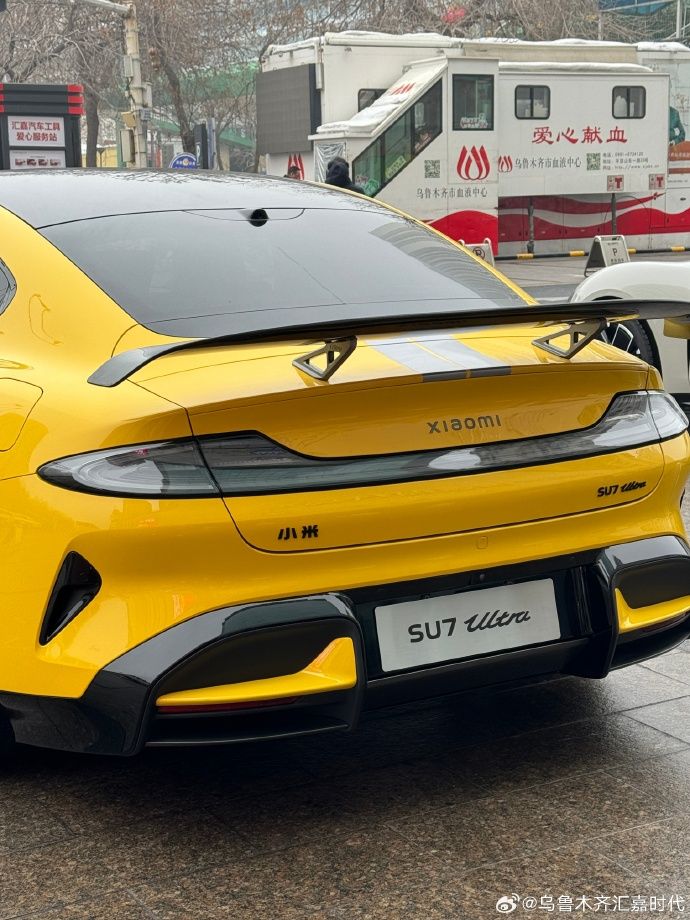su7: (0, 155, 690, 783)
